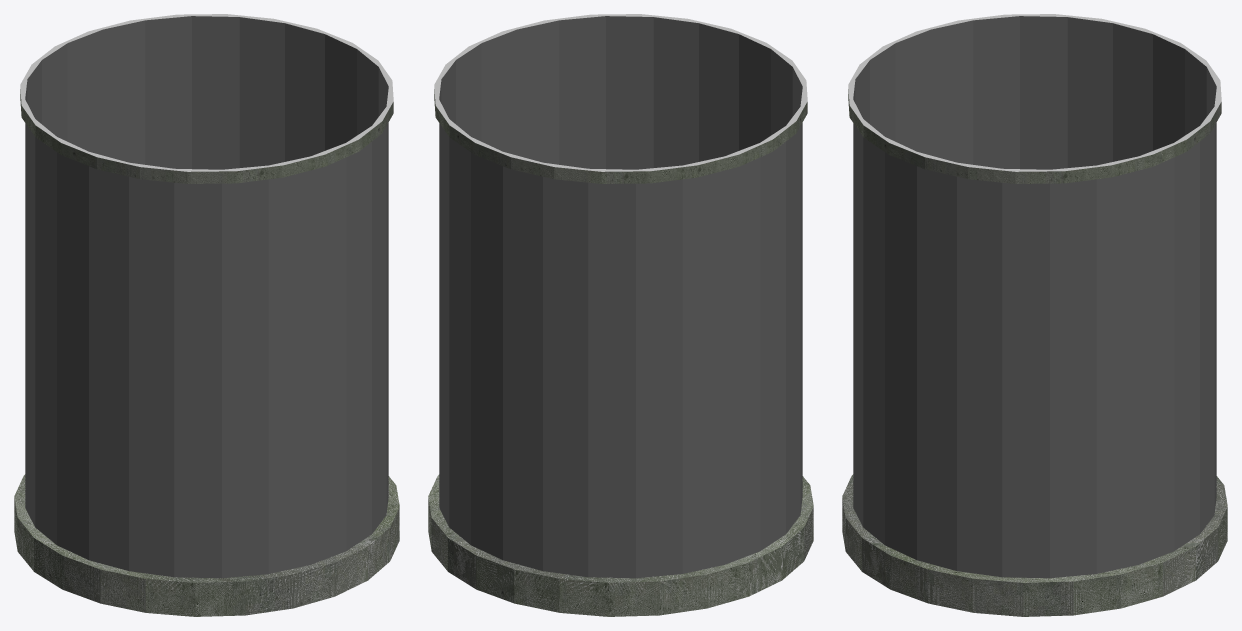
The picture shows the model from 3 angles, left to right: view 1: azimuth 30°, elevation 25°; view 2: azimuth 150°, elevation 25°; view 3: azimuth 270°, elevation 25°; orthographic projection.
Parts seen in each view (by area): view 1: mesh1_mesh1-geometry; view 2: mesh1_mesh1-geometry; view 3: mesh1_mesh1-geometry.
Part boxes in pixels (<box>): mesh1_mesh1-geometry: <box>14,14,399,616</box>; mesh1_mesh1-geometry: <box>428,14,813,616</box>; mesh1_mesh1-geometry: <box>842,14,1227,616</box>.
Size of the model in its own units: 0.5268 by 0.6671 by 0.5268.
